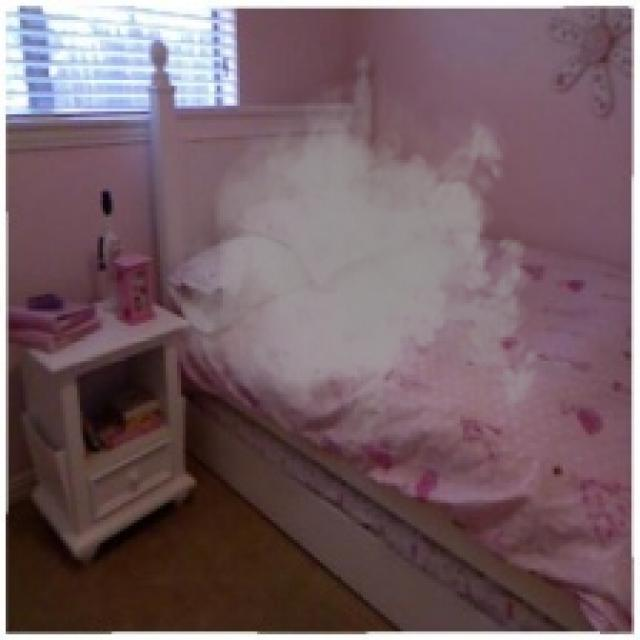Smoke: (174, 63, 549, 466)
